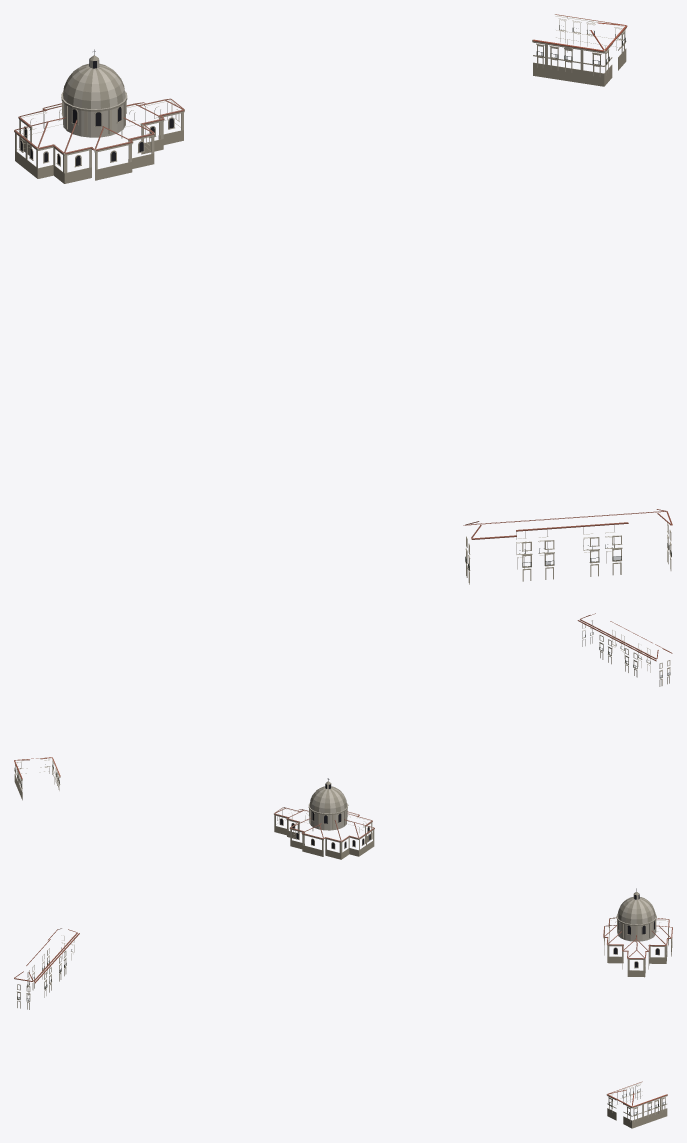
3 views of the same model, one above another, from view 1: azimuth 30°, elevation 25°; view 2: azimuth 150°, elevation 25°; view 3: azimuth 270°, elevation 25° (orthographic). The views are drawn at different scales.
Visible parts, largest first — view 1: detail; view 2: detail; view 3: detail.
Boxes of the visible parts, left/top/right/bottom form: detail: left=14, top=14, right=672, bottom=584; detail: left=14, top=613, right=672, bottom=859; detail: left=14, top=888, right=672, bottom=1128.
Size of the model in its own units: 146 by 36.51 by 218.
